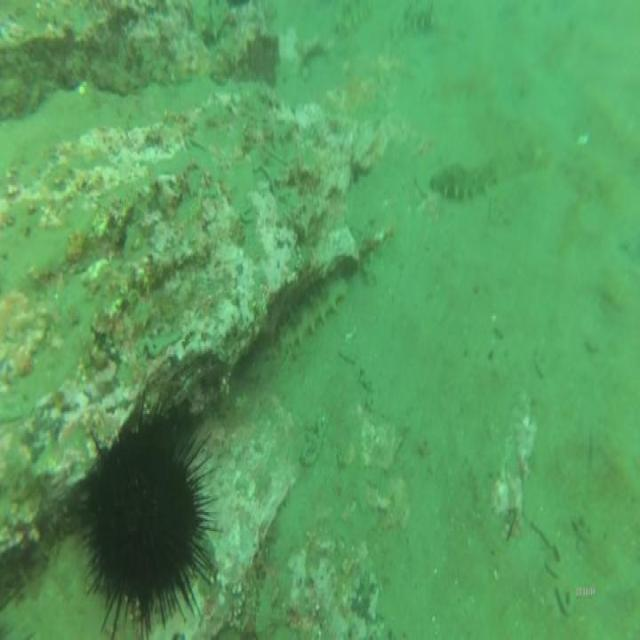echinus: (71, 388, 226, 640)
holothurian: (430, 139, 545, 207), (276, 269, 350, 354)
